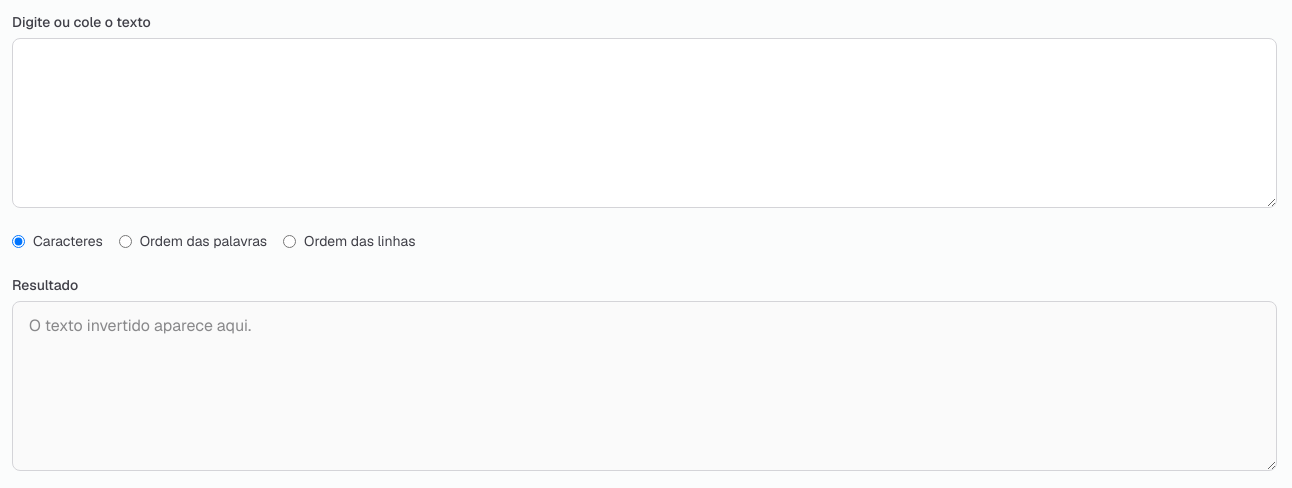
InverterTextoTool › inverte os caracteres por padrão
Type "Olá" into the text box labelled "Digite ou cole o texto" at point(644, 123), box [12,38,1277,208]
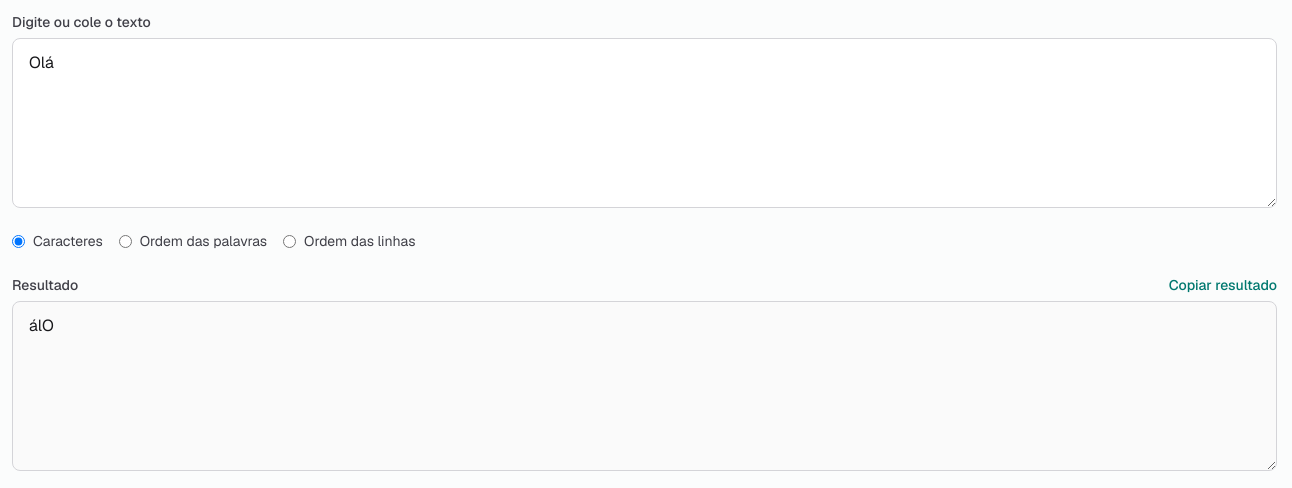
Now the text box with placeholder "O texto invertido aparece aqui." holds "álO", box [12,301,1277,471]
